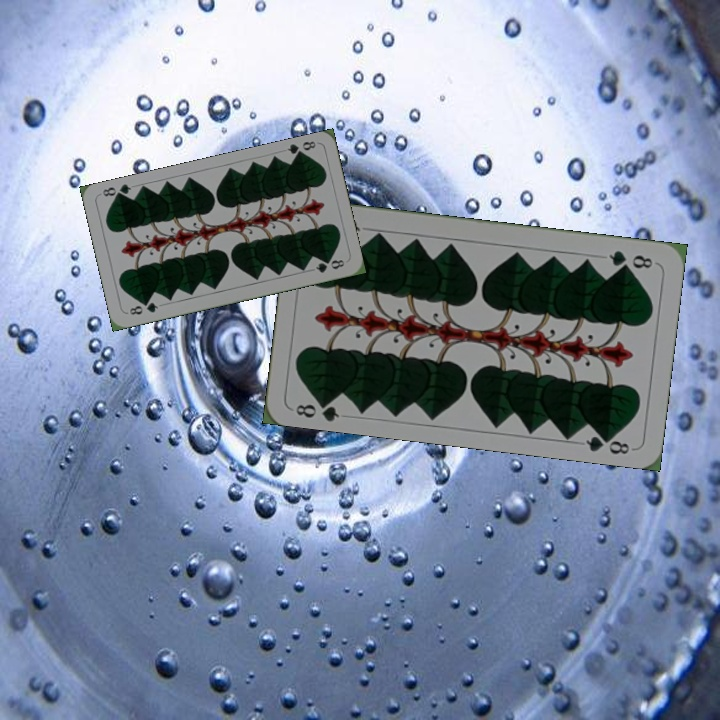G8: (292, 394, 342, 423), (605, 246, 656, 272), (283, 137, 318, 161), (125, 298, 161, 317)
